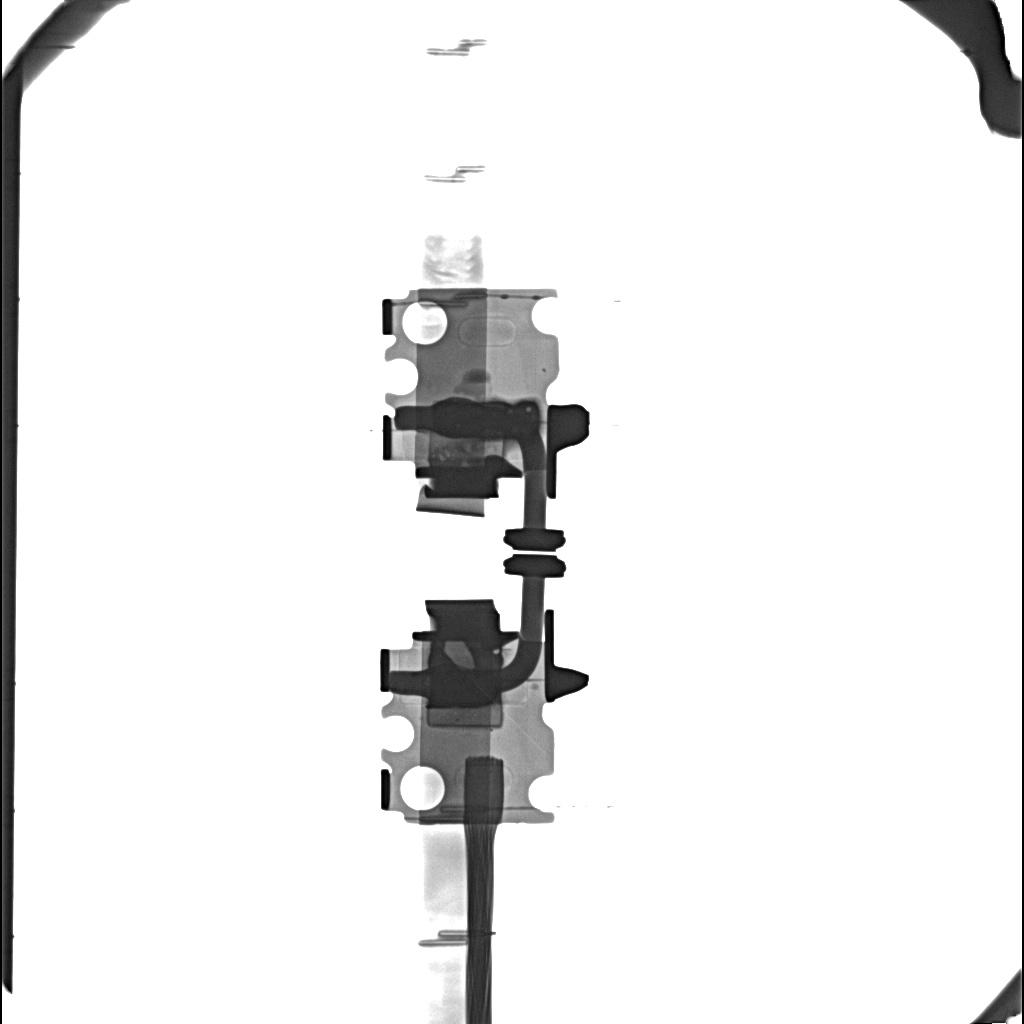气孔: (426, 701, 504, 728)
气泡: (443, 641, 474, 669)
水纹: (429, 402, 539, 440), (429, 670, 501, 708)
